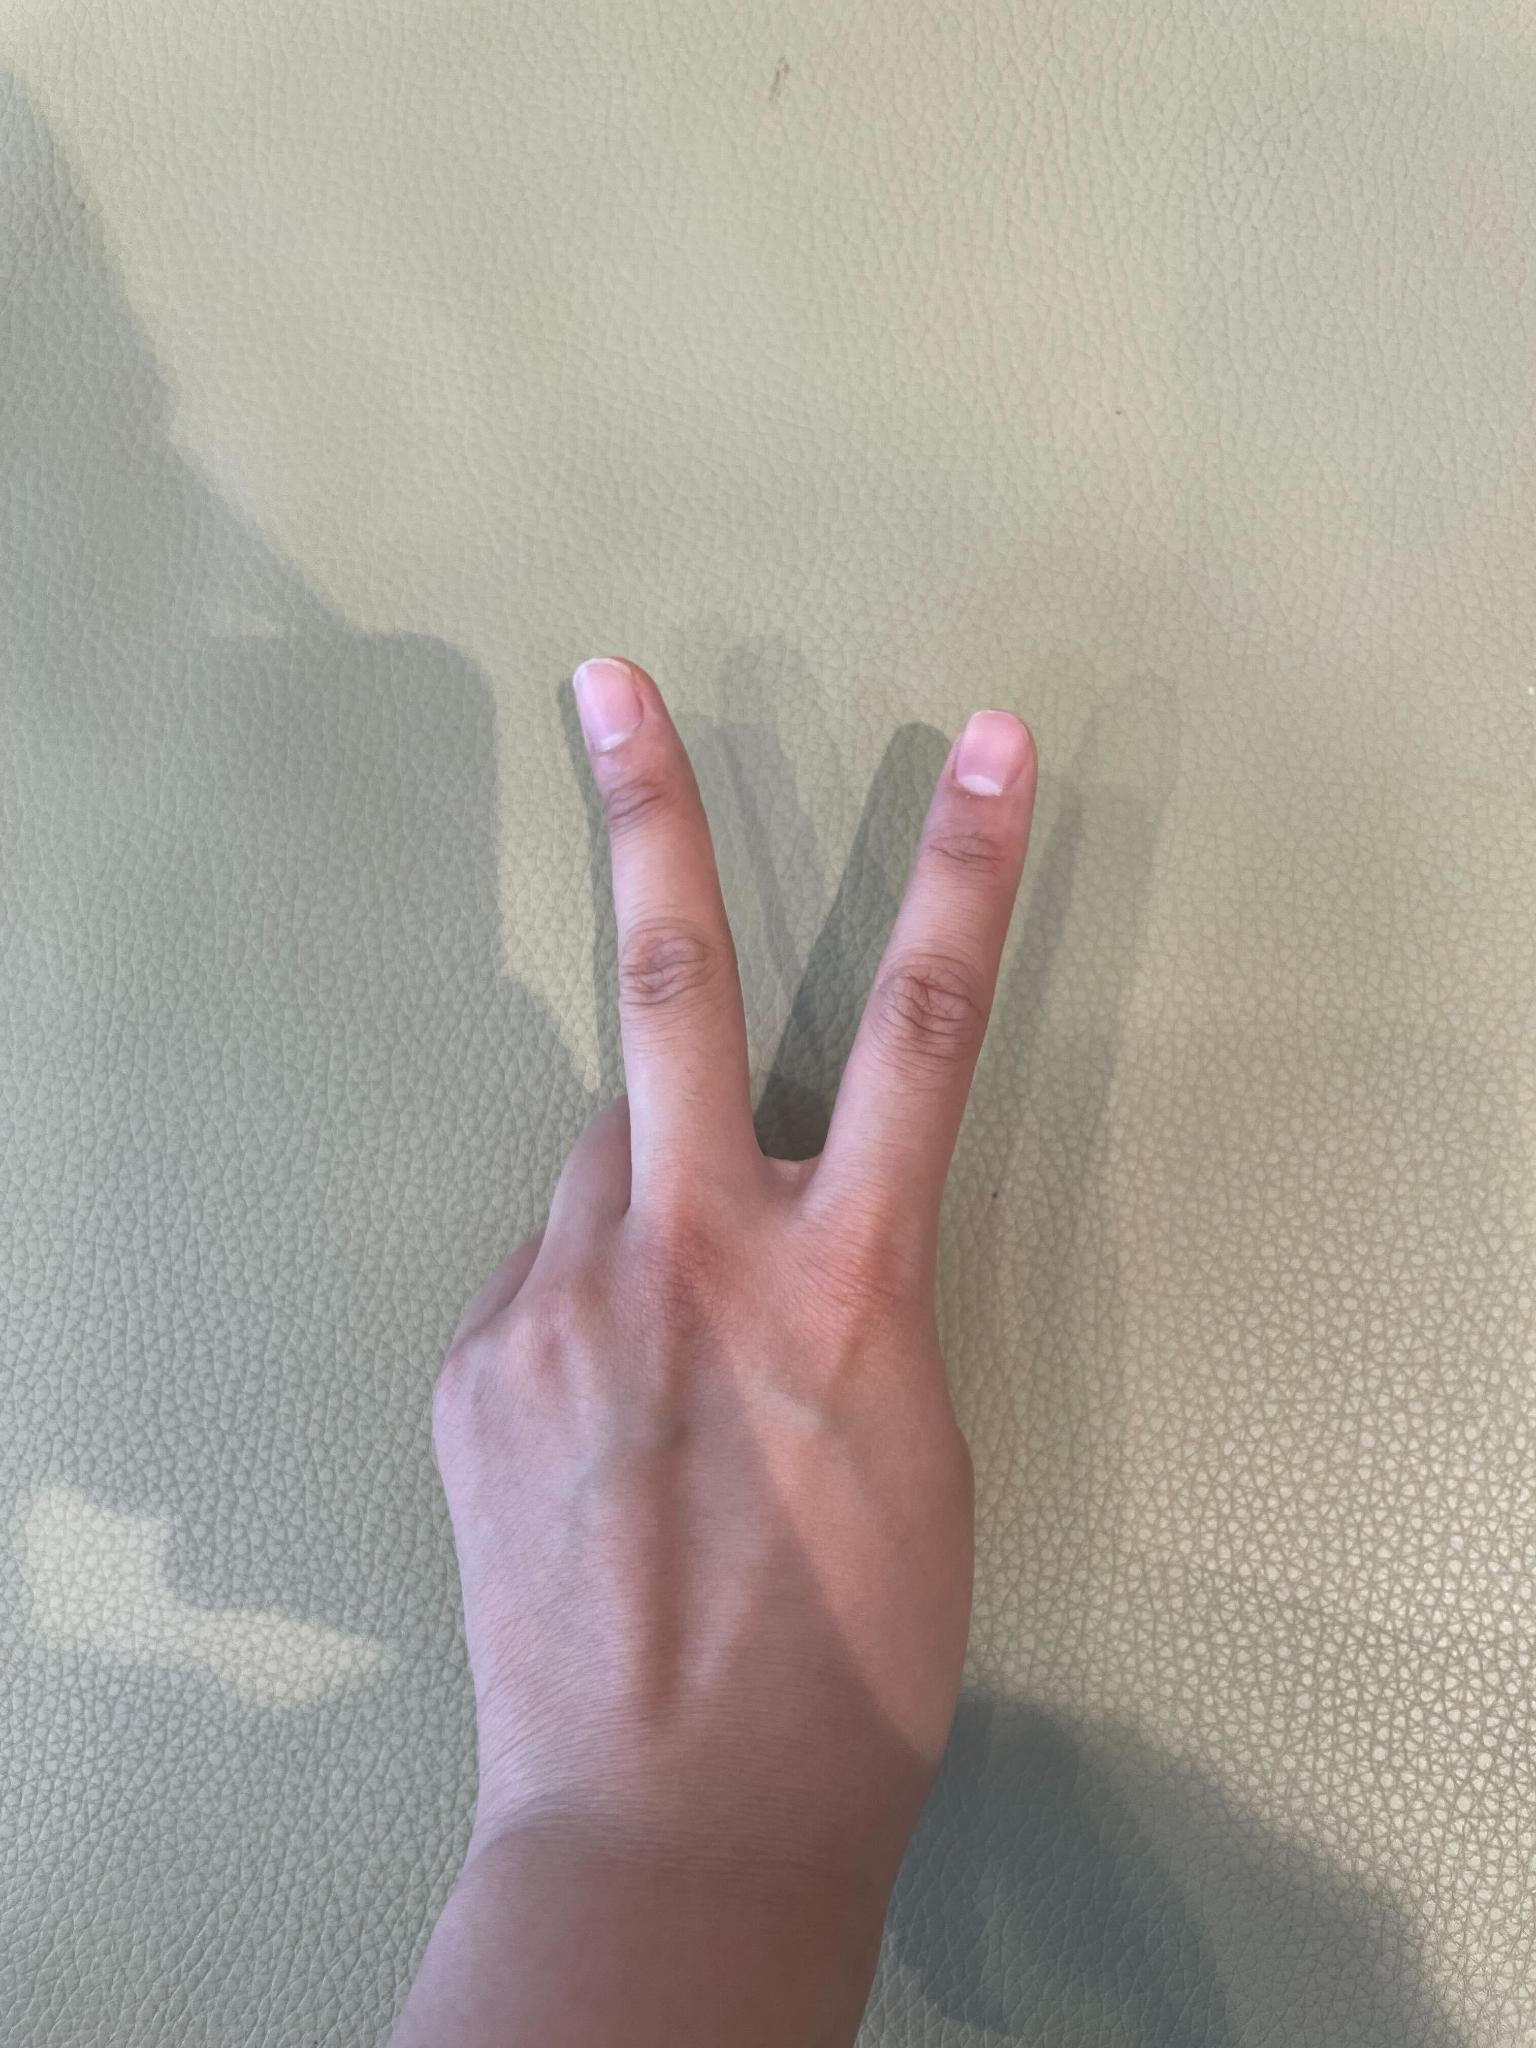v: (432, 632, 1039, 2048)
